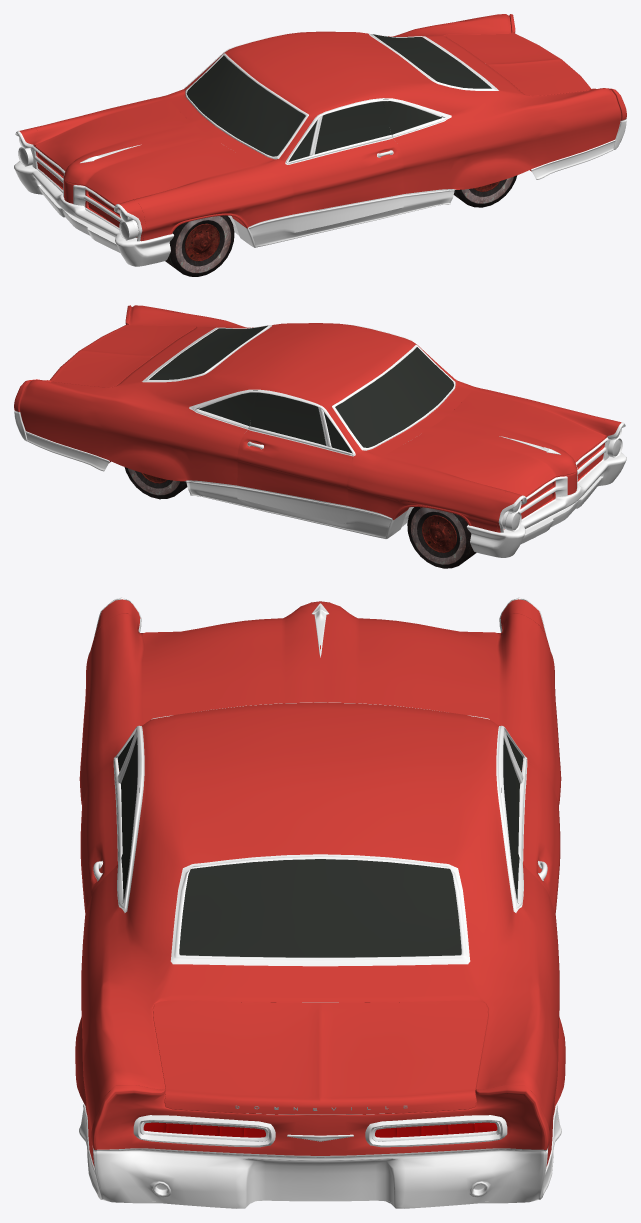
The picture shows the model from 3 angles, top to bottom: view 1: azimuth 30°, elevation 25°; view 2: azimuth 150°, elevation 25°; view 3: azimuth 270°, elevation 25°; orthographic projection. The views are drawn at different scales.
Parts seen in each view (by area): view 1: carosserie_4, carosserie_5, carosserie_3, roue_3, roue_2; view 2: carosserie_4, carosserie_5, carosserie_3, roue_1, roue; view 3: carosserie_4, carosserie_5, carosserie_3, carosserie_2.
Boxes of the visible parts, bbox=[...] form: carosserie_4: bbox=[19, 14, 626, 241]; carosserie_5: bbox=[14, 33, 626, 266]; carosserie_3: bbox=[186, 34, 491, 161]; roue_3: bbox=[165, 215, 234, 276]; roue_2: bbox=[453, 175, 517, 207]; carosserie_4: bbox=[14, 305, 621, 532]; carosserie_5: bbox=[14, 324, 626, 557]; carosserie_3: bbox=[149, 325, 453, 452]; roue_1: bbox=[407, 507, 476, 568]; roue: bbox=[124, 467, 187, 499]; carosserie_4: bbox=[75, 599, 565, 1166]; carosserie_5: bbox=[79, 597, 561, 1208]; carosserie_3: bbox=[117, 734, 522, 957]; carosserie_2: bbox=[143, 1122, 497, 1137].
Size of the model in its own units: 2 by 0.4948 by 0.8381.
Materials: 8 (1 with a texture image).
